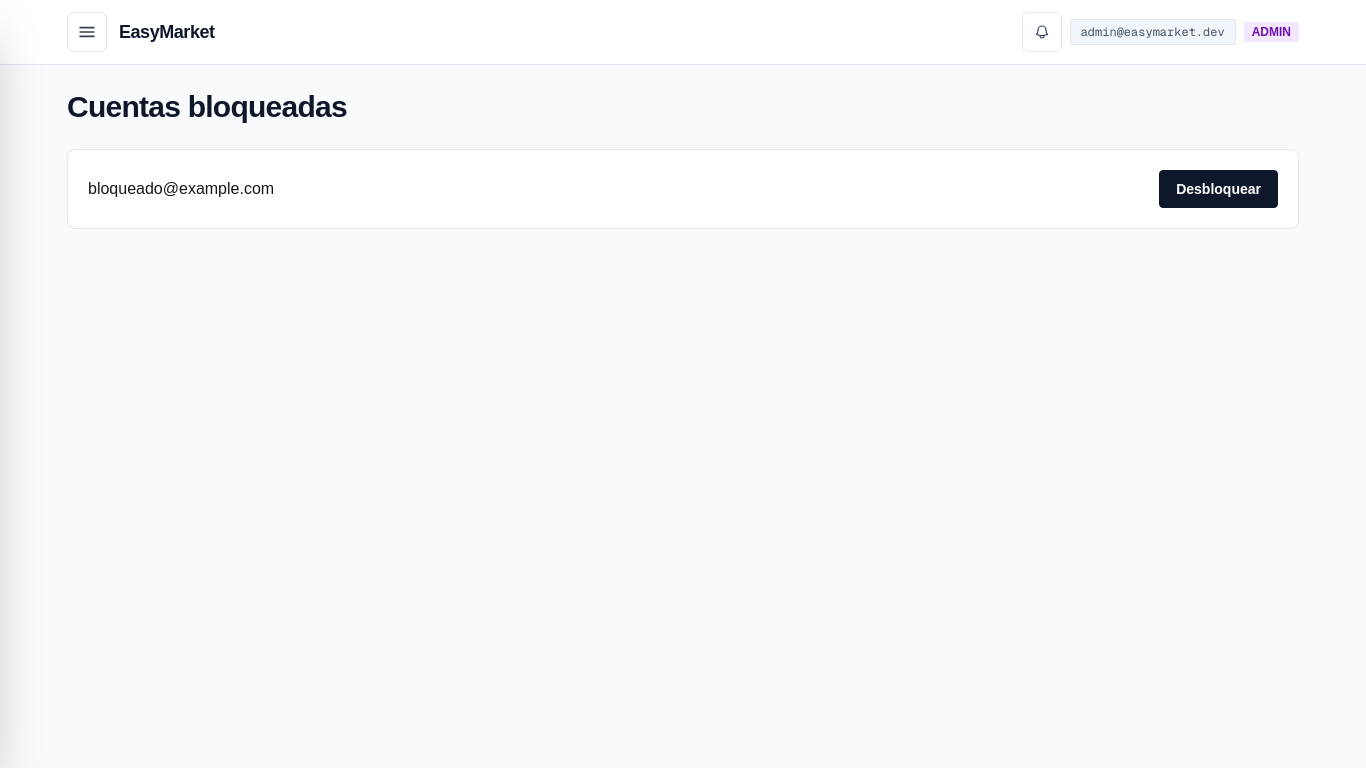
PHA06TSK13-L02 - cobertura administrativa requerida › conserva la cuenta y muestra el mensaje backend cuando falla el POST de desbloqueo
Click the button "Desbloquear".
click(1219, 189)  # box [1159, 170, 1278, 208]
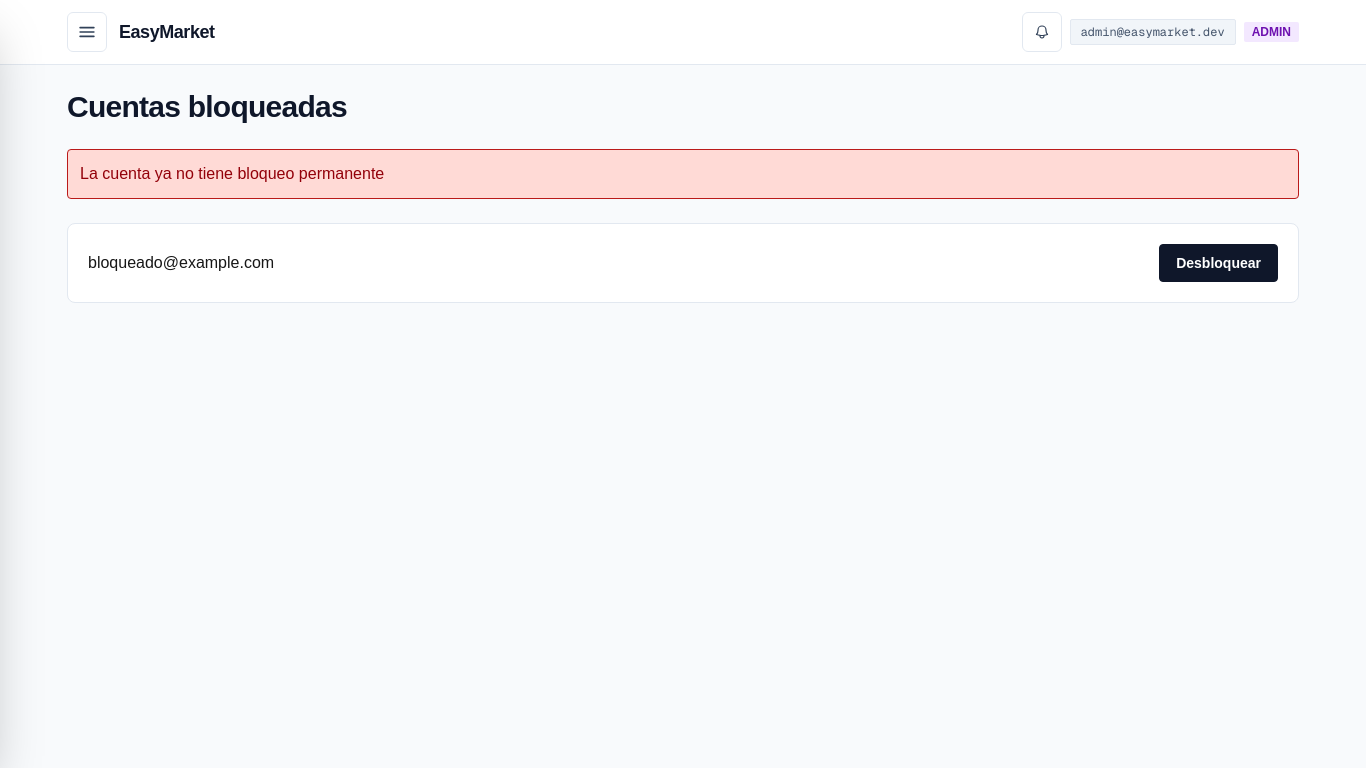
Expected: the text "bloqueado@example.com" is shown, [88, 251, 274, 275]
Result: the message reads "La cuenta ya no tiene bloqueo permanente" at [80, 165, 384, 182]
